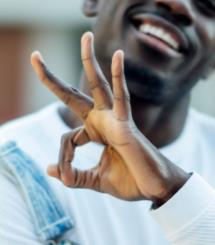left: (28, 30, 164, 203)
